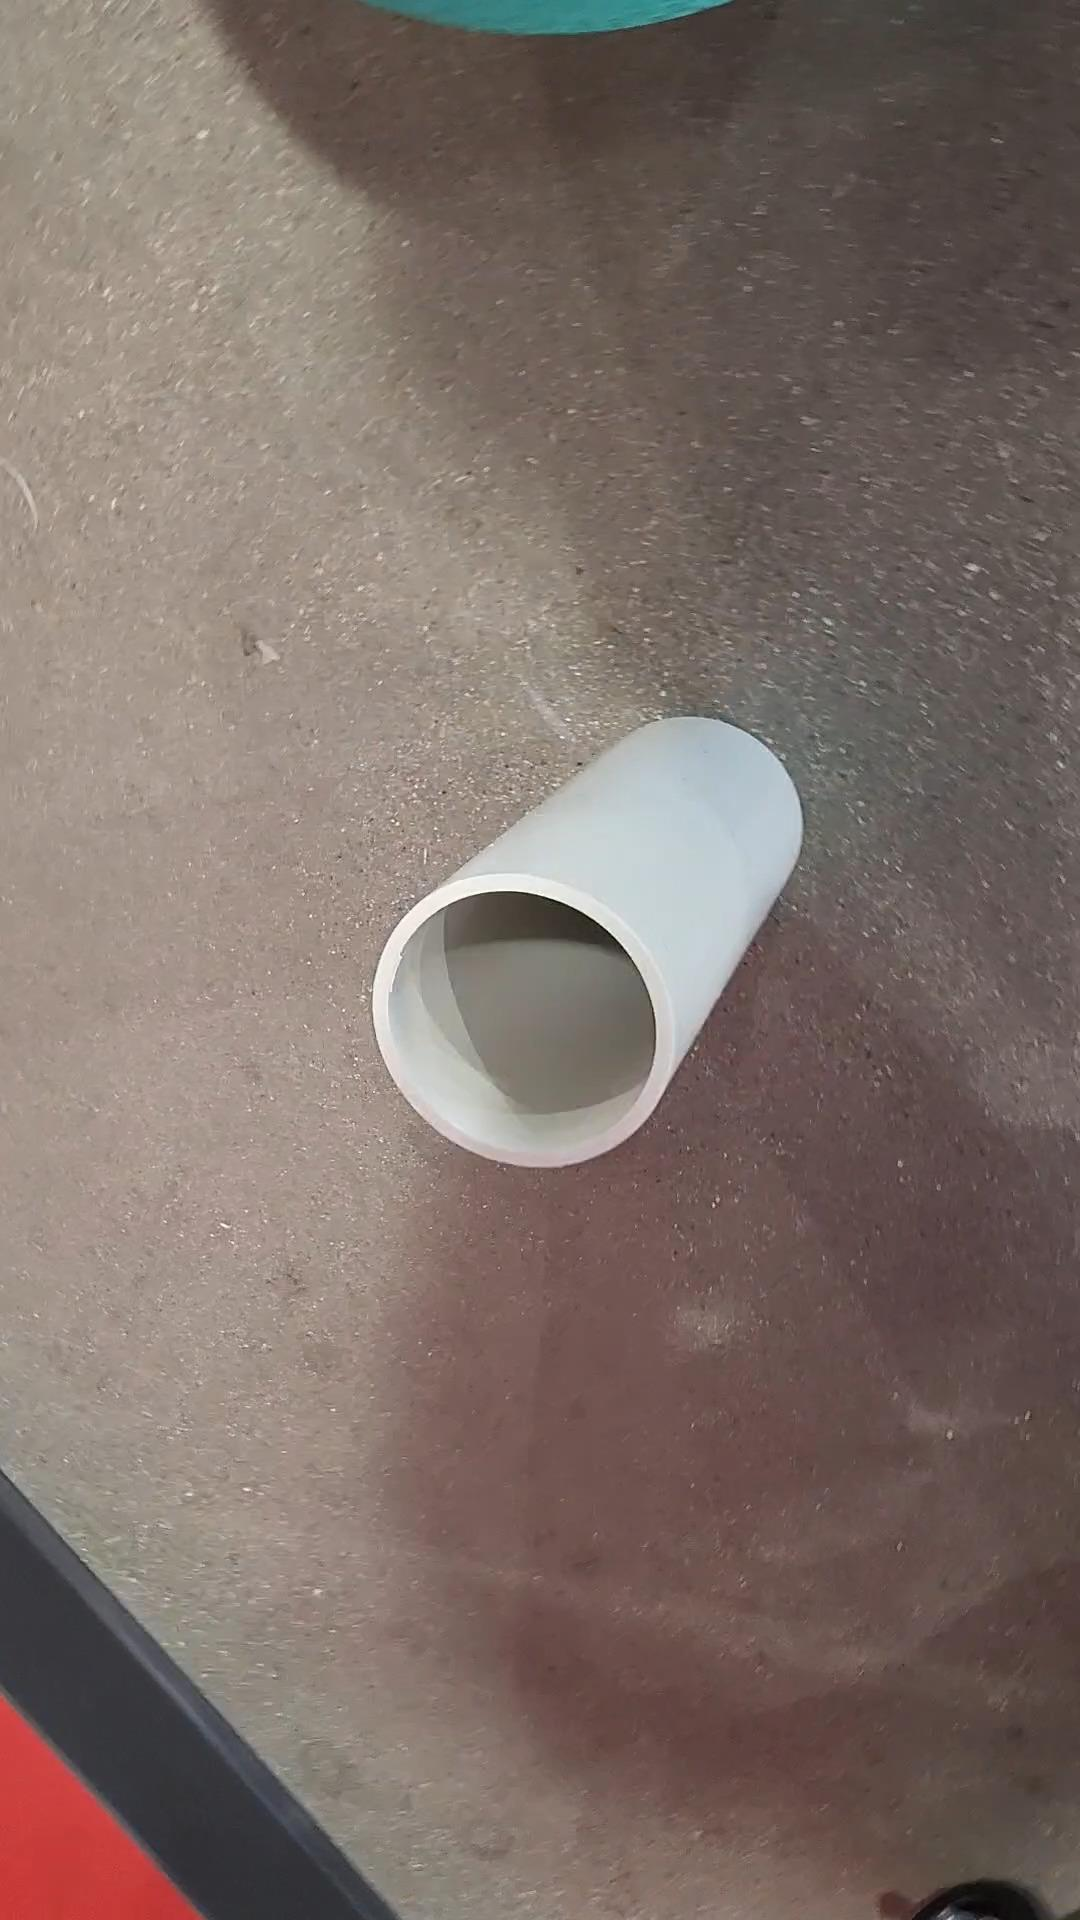coral: (375, 720, 800, 1160)
